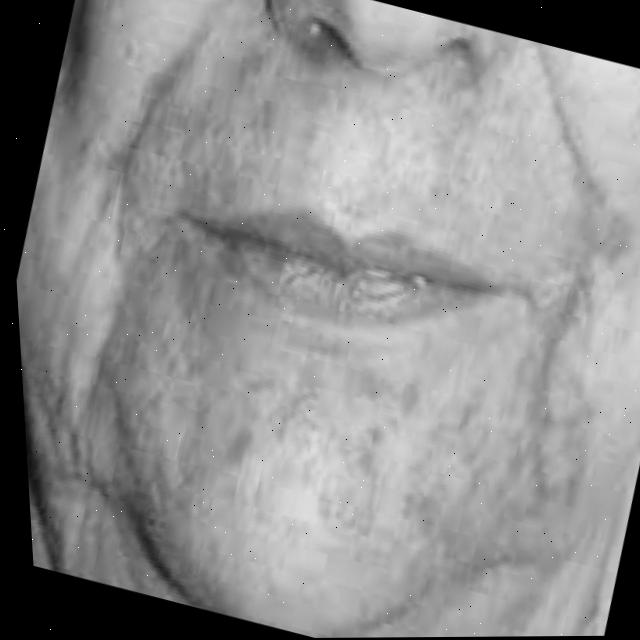Rosacea: (177, 364, 509, 587), (480, 158, 640, 489), (102, 23, 224, 178)
